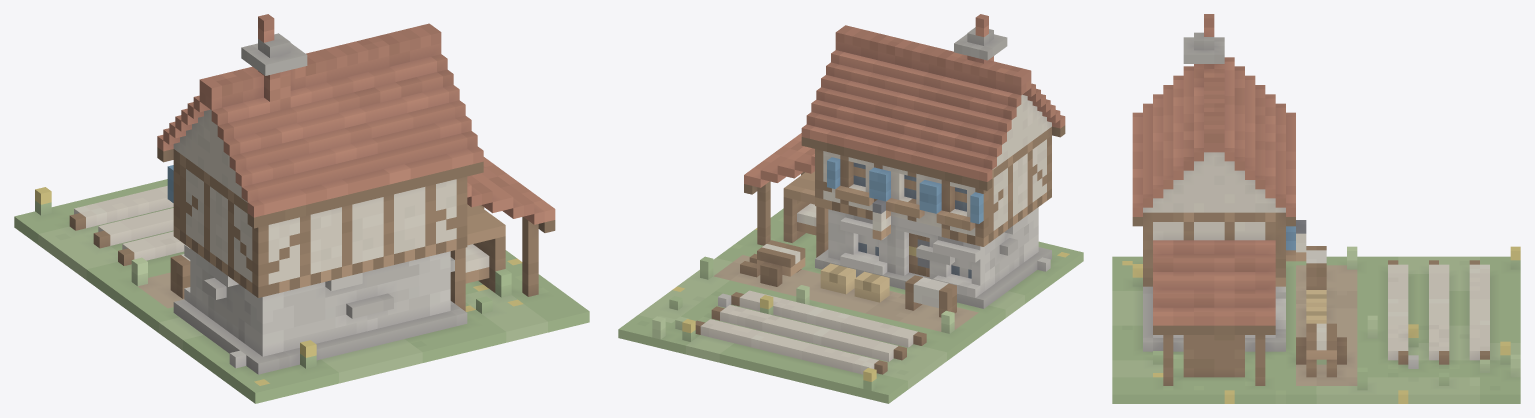
The model's file is weaver_linen.glb.
3 views of the same model, side by side, from view 1: azimuth 30°, elevation 25°; view 2: azimuth 150°, elevation 25°; view 3: azimuth 270°, elevation 25° (orthographic). The views are drawn at different scales.
Parts seen in each view (by area): view 1: weaver_linen; view 2: weaver_linen; view 3: weaver_linen.
Part boxes in pixels (x1=…): weaver_linen: x1=14, y1=14, x2=589, y2=403; weaver_linen: x1=618, y1=14, x2=1083, y2=403; weaver_linen: x1=1112, y1=14, x2=1520, y2=403.
Bounding box in the file's own units: 4 × 3.75 × 5.
